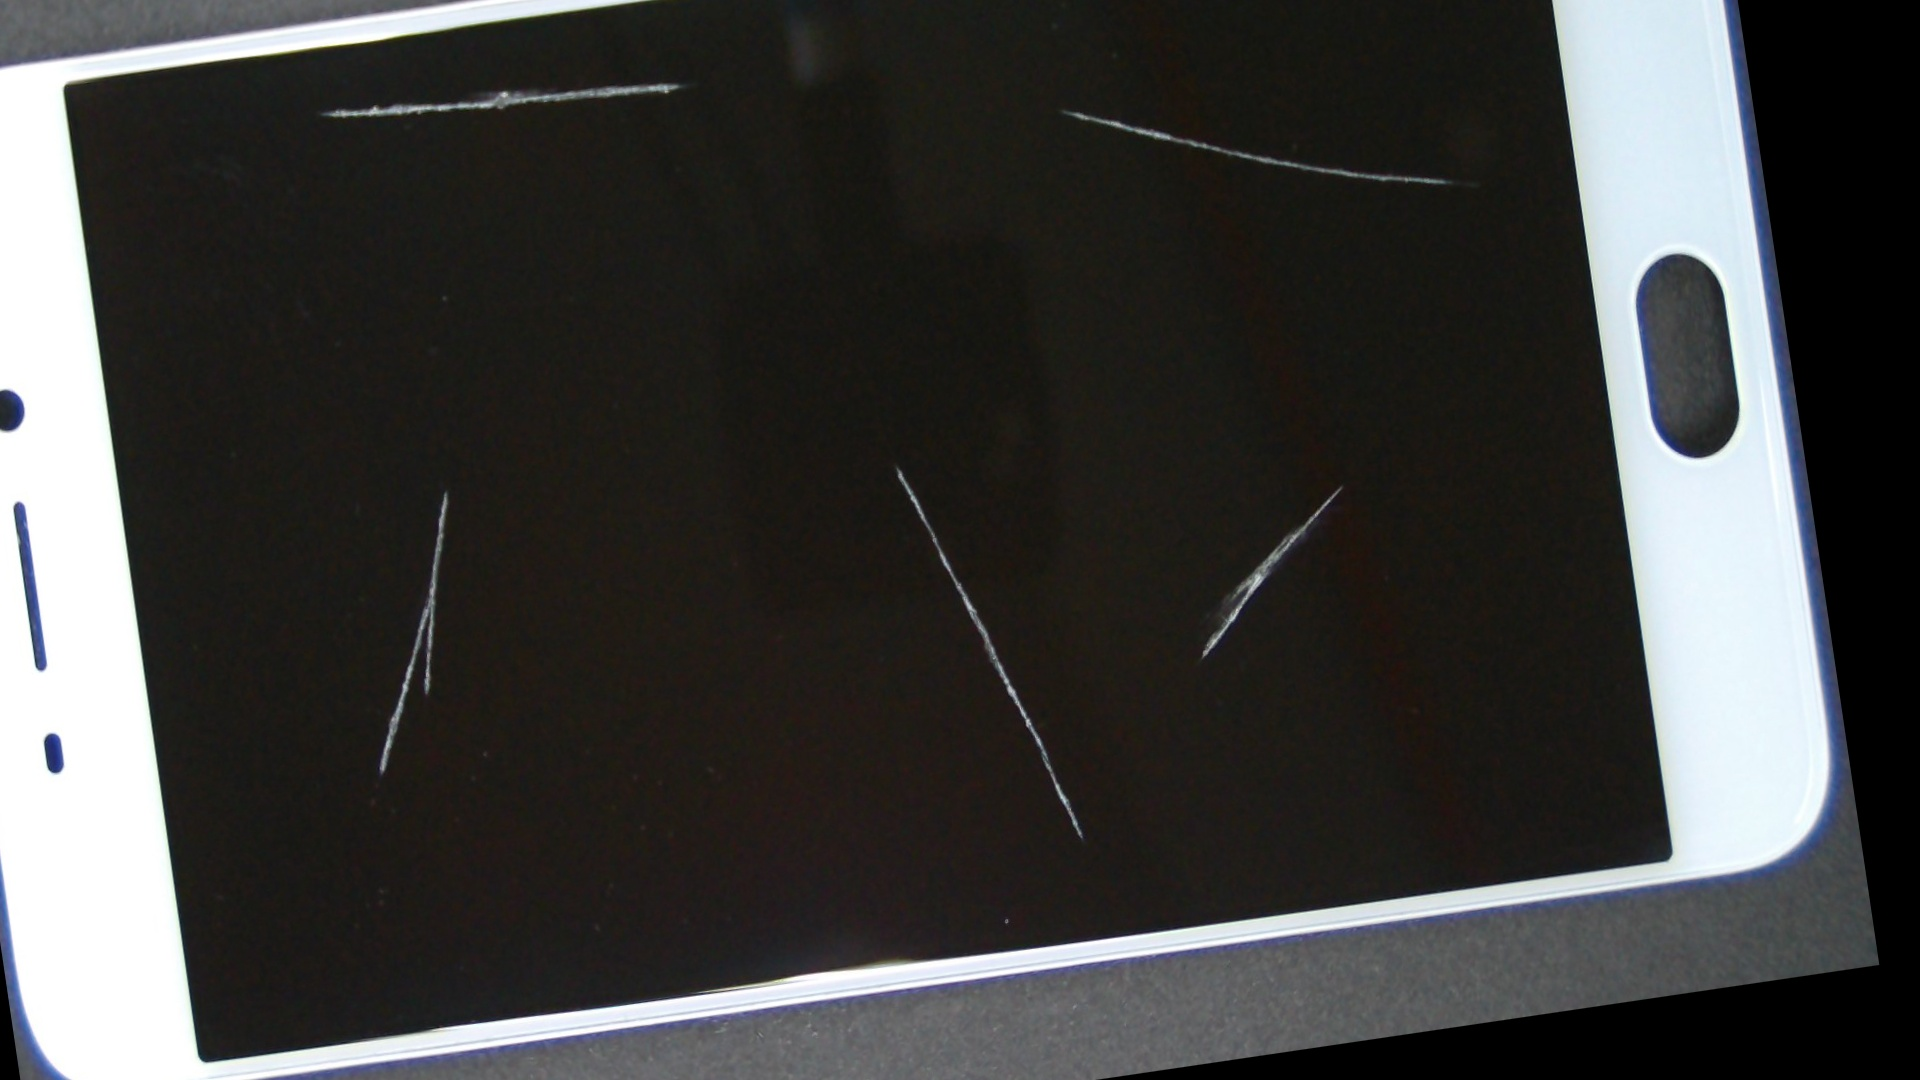oil: (603, 83, 1849, 922), (381, 103, 1412, 828), (463, 0, 1659, 323), (156, 181, 735, 800), (102, 0, 574, 218)
